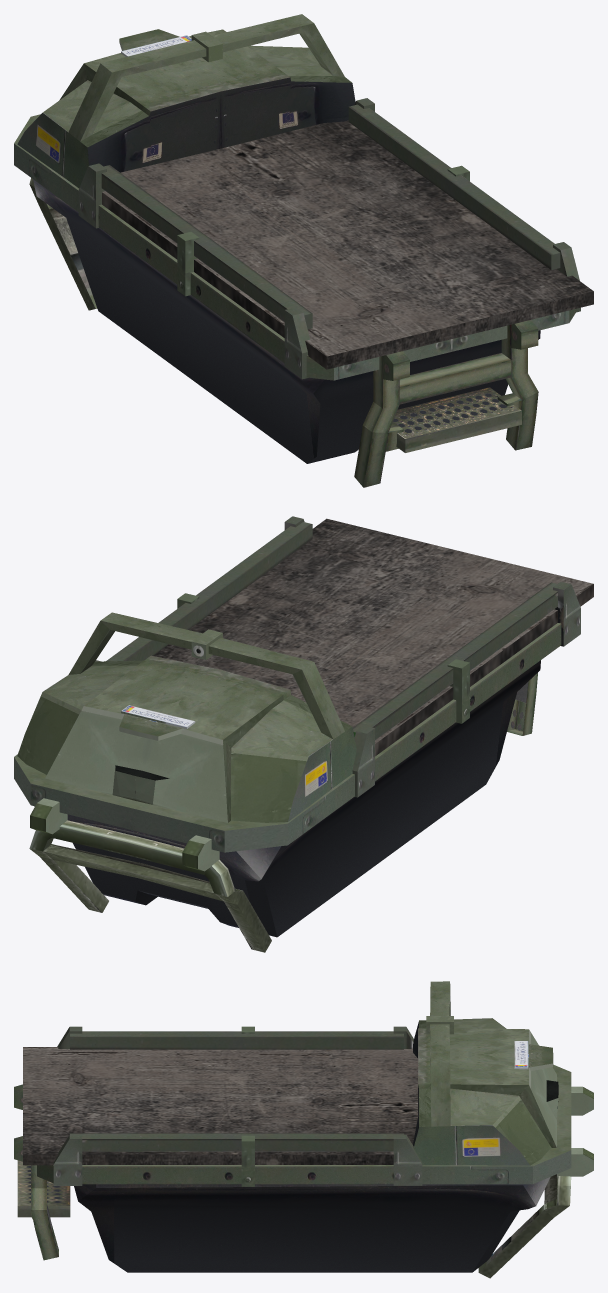
File: J8_Chasis_v2.fbx
3 renders of one model, top to bottom at view 1: azimuth 30°, elevation 25°; view 2: azimuth 150°, elevation 25°; view 3: azimuth 270°, elevation 25°, orthographic. The views are drawn at different scales.
Visible parts, largest first — view 1: Chassis; view 2: Chassis; view 3: Chassis.
Part boxes in pixels (x1,y1,x2,y2): Chassis: (14, 14, 593, 487); Chassis: (14, 516, 593, 952); Chassis: (14, 981, 593, 1278).
Size of the model in its own units: 165 by 150 by 352.
